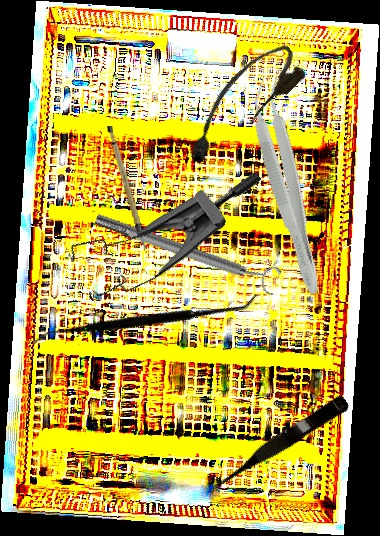Cannula: (170, 35, 312, 172)
Fixation Ring: (91, 203, 283, 298)
Micro Scissor: (203, 390, 351, 497)
Scalpel Handle: (104, 123, 148, 254)
Spatula Surgical: (30, 208, 260, 430)
Speculum: (52, 112, 265, 335)
Tissue Forceps: (242, 73, 336, 298)
